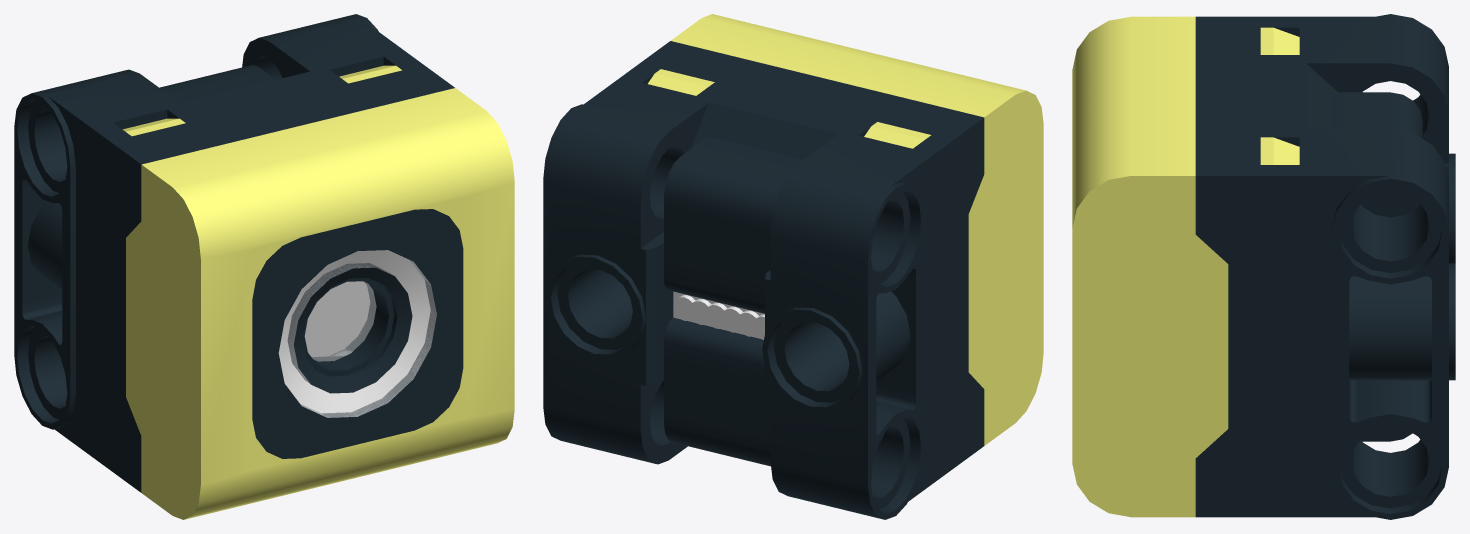
3 views of the same model, side by side, from view 1: azimuth 30°, elevation 25°; view 2: azimuth 150°, elevation 25°; view 3: azimuth 270°, elevation 25° (orthographic). The views are drawn at different scales.
Parts seen in each view (by area): view 1: u9407.dat, u9408.dat, u9406.dat, 37308.dat, u9405.dat, u9404.dat, u9403.dat; view 2: u9408.dat, u9407.dat, u9460.dat, 37308.dat; view 3: u9408.dat, u9407.dat, u9460.dat.
Part boxes in pixels (x1,y1,x2,y2): u9407.dat: (122, 65, 514, 519); u9408.dat: (14, 14, 454, 492); u9406.dat: (252, 209, 463, 458); 37308.dat: (279, 250, 430, 412); u9405.dat: (278, 250, 436, 417); u9404.dat: (287, 263, 412, 393); u9403.dat: (304, 281, 376, 361); u9408.dat: (543, 41, 984, 519); u9407.dat: (648, 14, 1043, 445); u9460.dat: (664, 208, 770, 438); 37308.dat: (673, 291, 764, 339); u9408.dat: (1195, 14, 1455, 519); u9407.dat: (1072, 16, 1299, 517); u9460.dat: (1361, 191, 1419, 217).
Size of the model in its own units: 0.024 by 0.0232 by 0.0236.
